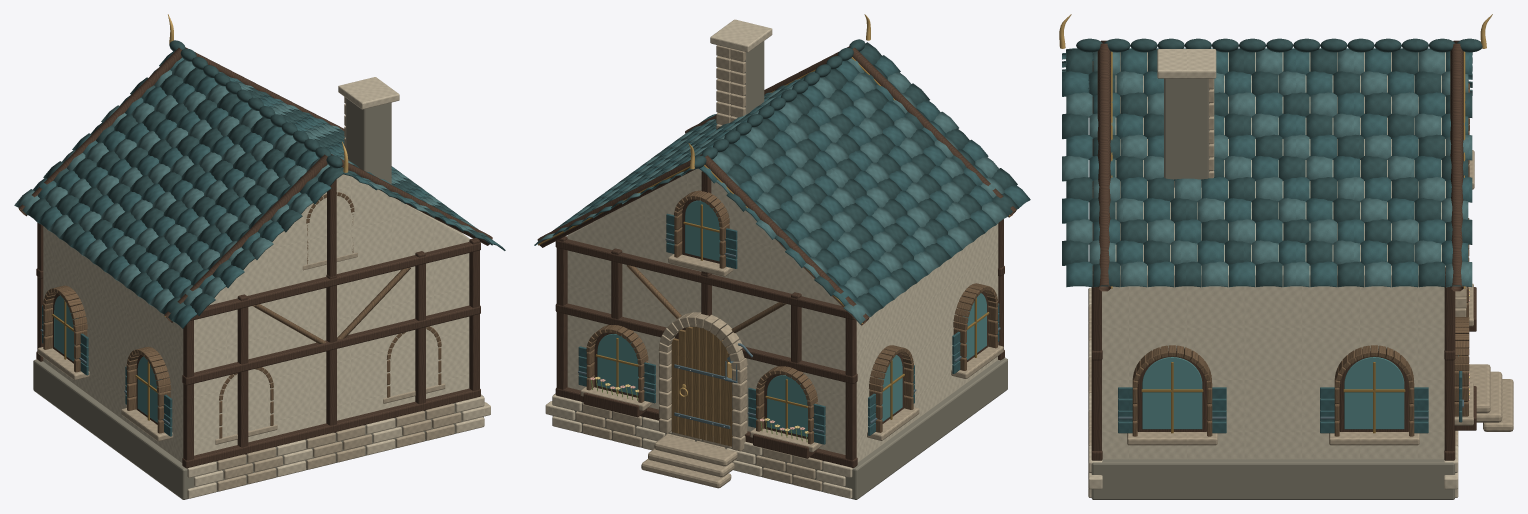
The model's file is cottage.glb.
The picture shows the model from 3 angles, left to right: view 1: azimuth 30°, elevation 25°; view 2: azimuth 150°, elevation 25°; view 3: azimuth 270°, elevation 25°; orthographic projection. The views are drawn at different scales.
Parts seen in each view (by area): view 1: Cottage_plaster, Cottage_timber, Cottage_slate_dark, Cottage_slate, Cottage_slate_light, Cottage_mortar, Cottage_cut_stone, Cottage_limestone, Side facade_wood_edge, Cottage_wood_edge, Side facade_glass, Side facade_cut_stone (+1 smaller); view 2: Cottage_plaster, Cottage_timber, Cottage_slate, Cottage_slate_dark, Cottage_slate_light, Cottage_cut_stone, Cottage_mortar, Cottage_oak_planks, Cottage_glass, Cottage_wood_edge, Cottage_limestone, Side facade_wood_edge (+5 smaller); view 3: Cottage_plaster, Cottage_slate_dark, Cottage_slate, Cottage_slate_light, Cottage_mortar, Cottage_timber, Side facade.001_glass, Cottage_cut_stone, Side facade.001_wood_edge, Cottage_limestone, Side facade.001_slate, Side facade.001_cut_stone (+4 smaller).
Part boxes in pixels (<box>): Cottage_plaster: <box>43,174,469,462</box>; Cottage_timber: <box>18,47,492,468</box>; Cottage_slate_dark: <box>25,40,492,319</box>; Cottage_slate: <box>33,51,505,328</box>; Cottage_slate_light: <box>14,59,477,311</box>; Cottage_mortar: <box>33,98,483,499</box>; Cottage_cut_stone: <box>215,97,461,491</box>; Cottage_limestone: <box>36,77,490,498</box>; Side facade_wood_edge: <box>43,285,171,433</box>; Cottage_wood_edge: <box>219,192,441,438</box>; Side facade_glass: <box>54,295,161,422</box>; Side facade_cut_stone: <box>37,347,173,441</box>; Cottage_plaster: <box>567,168,998,462</box>; Cottage_timber: <box>537,46,1016,467</box>; Cottage_slate: <box>552,55,1030,444</box>; Cottage_slate_dark: <box>553,39,1018,315</box>; Cottage_slate_light: <box>534,56,1007,324</box>; Cottage_cut_stone: <box>575,45,822,491</box>; Cottage_mortar: <box>552,41,1007,499</box>; Cottage_oak_planks: <box>671,326,732,446</box>; Cottage_glass: <box>597,200,808,436</box>; Cottage_wood_edge: <box>586,190,817,444</box>; Cottage_limestone: <box>545,19,1005,498</box>; Side facade_wood_edge: <box>869,283,998,432</box>; Cottage_plaster: <box>1102,52,1445,459</box>; Cottage_slate_dark: <box>1062,38,1482,287</box>; Cottage_slate: <box>1062,48,1472,422</box>; Cottage_slate_light: <box>1062,48,1472,287</box>; Cottage_mortar: <box>1091,78,1455,499</box>; Cottage_timber: <box>1091,40,1476,460</box>; Side facade.001_glass: <box>1142,357,1404,429</box>; Cottage_cut_stone: <box>1088,78,1513,446</box>; Side facade.001_wood_edge: <box>1132,345,1414,436</box>; Cottage_limestone: <box>1088,49,1458,497</box>; Side facade.001_slate: <box>1118,387,1428,433</box>; Side facade.001_cut_stone: <box>1127,432,1419,445</box>.
Size of the model in its own units: 7.88 by 7.6 by 7.88.
Materials: 19 (9 with a texture image).
